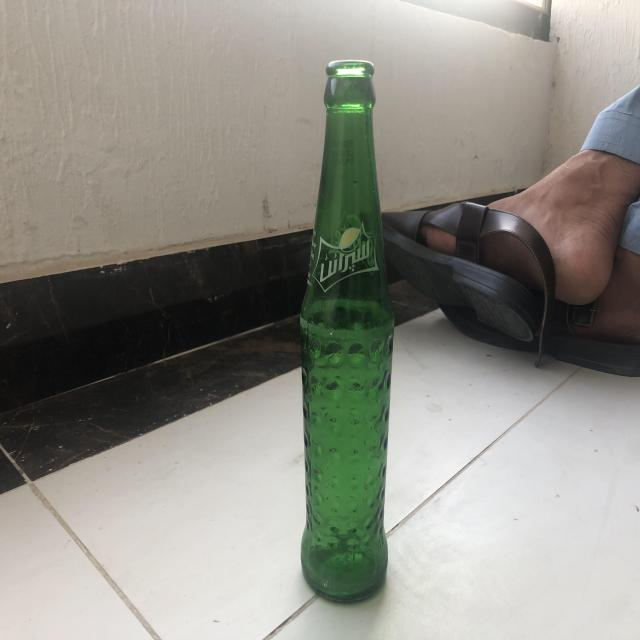bottle-glass: (299, 54, 394, 601)
